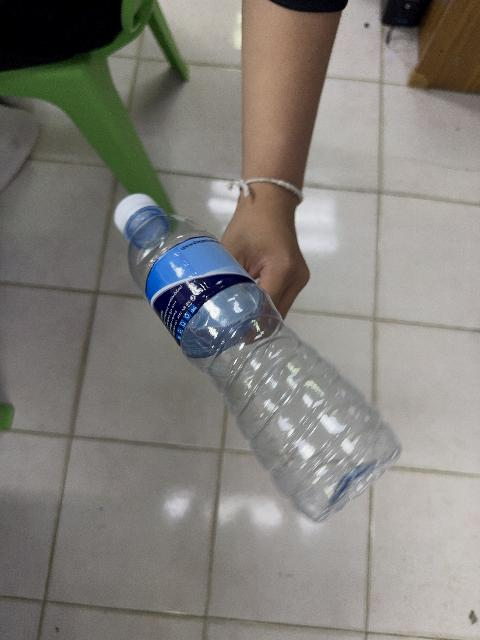bottle: (114, 195, 400, 520)
